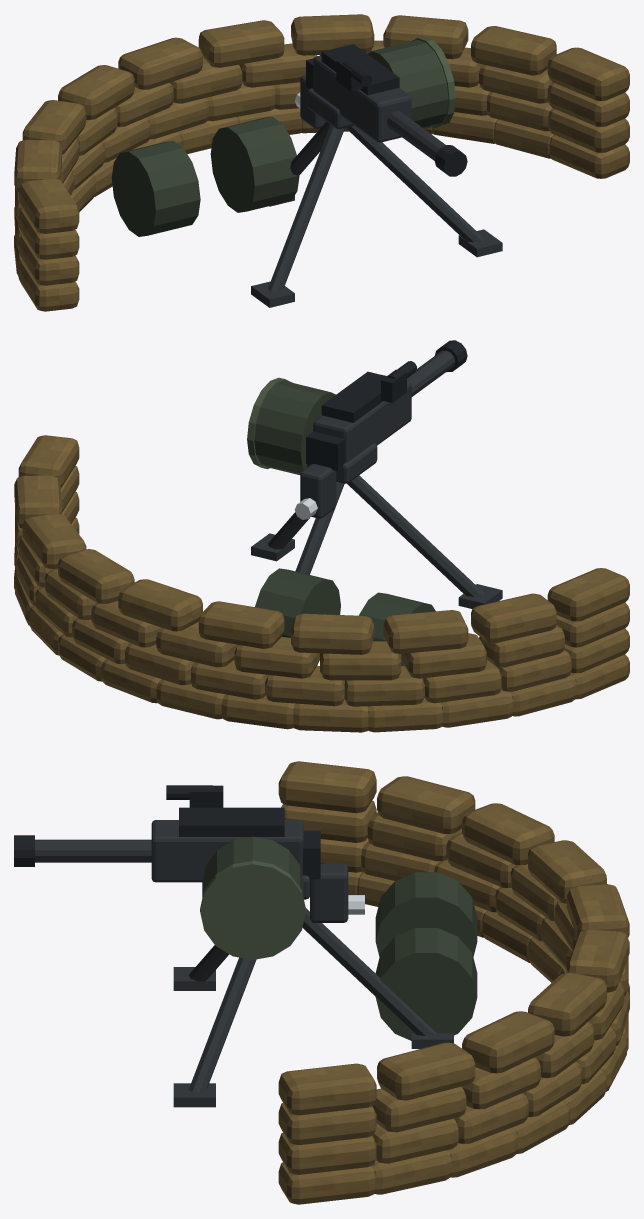
File: sns_weapon_agl.glb
3 views of the same model, one above another, from view 1: azimuth 30°, elevation 25°; view 2: azimuth 150°, elevation 25°; view 3: azimuth 270°, elevation 25° (orthographic). The views are drawn at different scales.
Parts seen in each view (by area): view 1: SNS_WEAPON_AGL; view 2: SNS_WEAPON_AGL; view 3: SNS_WEAPON_AGL.
Boxes of the visible parts, x1,y1,x2,y2 form: SNS_WEAPON_AGL: [14, 14, 629, 311]; SNS_WEAPON_AGL: [14, 340, 629, 732]; SNS_WEAPON_AGL: [14, 761, 629, 1204].
Size of the model in its own units: 3.71 by 1.28 by 2.91.
Materials: 7 (1 with a texture image).
